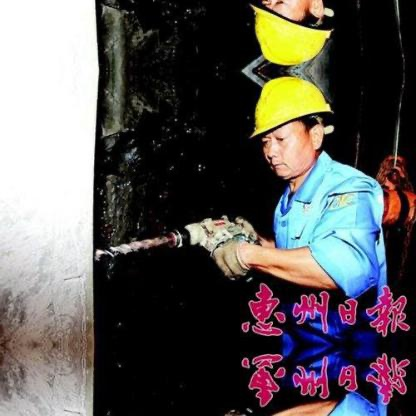Safety Helmet: (245, 70, 342, 186), (248, 1, 338, 70)
